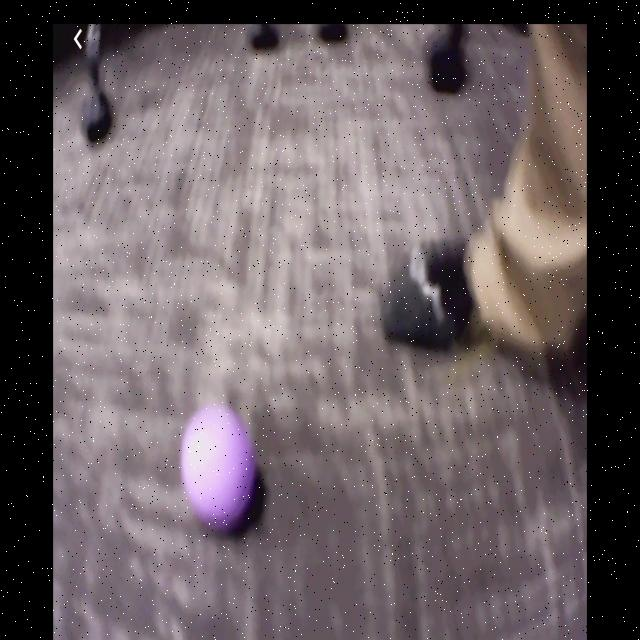ball: (182, 406, 258, 526)
